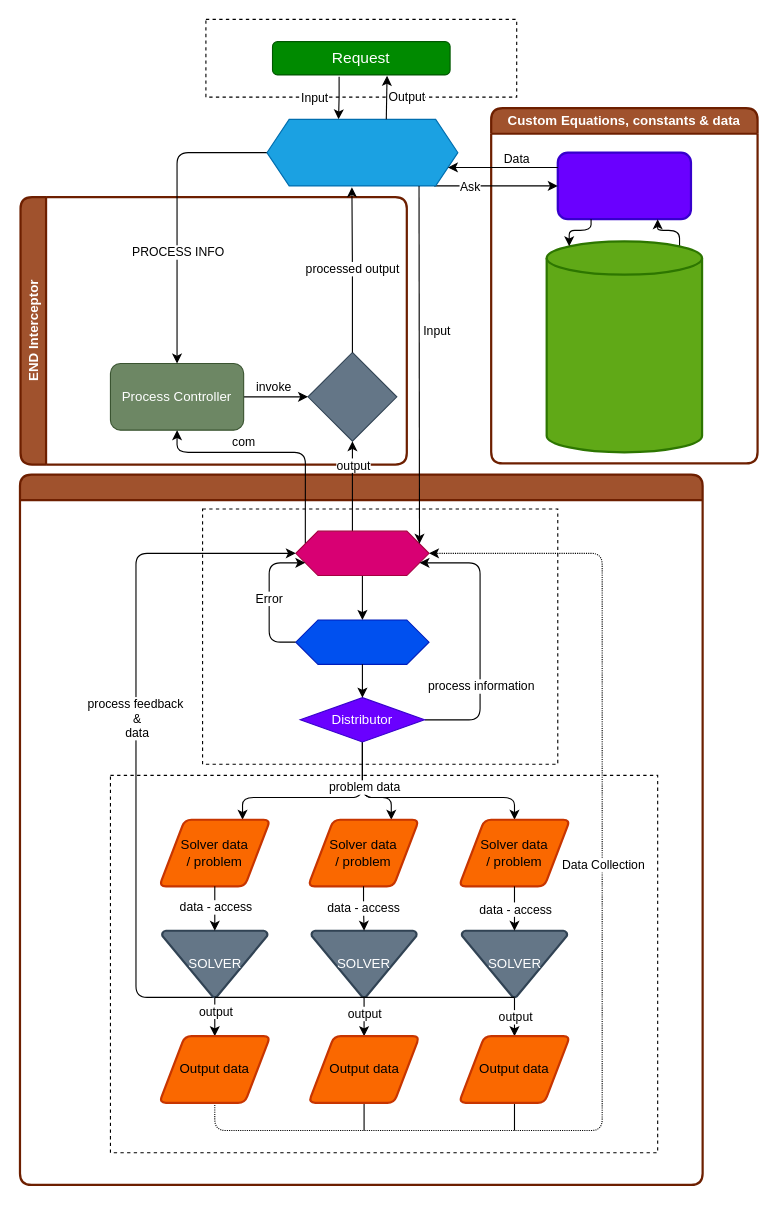
This 778x1205 diagram has some shape labels left out. The box of each missing label's shape, as (x1, y1, x2, y2) in pixels:
Database: (545, 240, 703, 453)
Initial solver: (295, 619, 429, 664)
local Operator: (295, 530, 429, 576)
MAIN SOLVER: (18, 473, 703, 1185)
Operator: (266, 118, 458, 186)
Processer / data-finder: (556, 151, 692, 220)
Processing: (307, 351, 397, 441)
